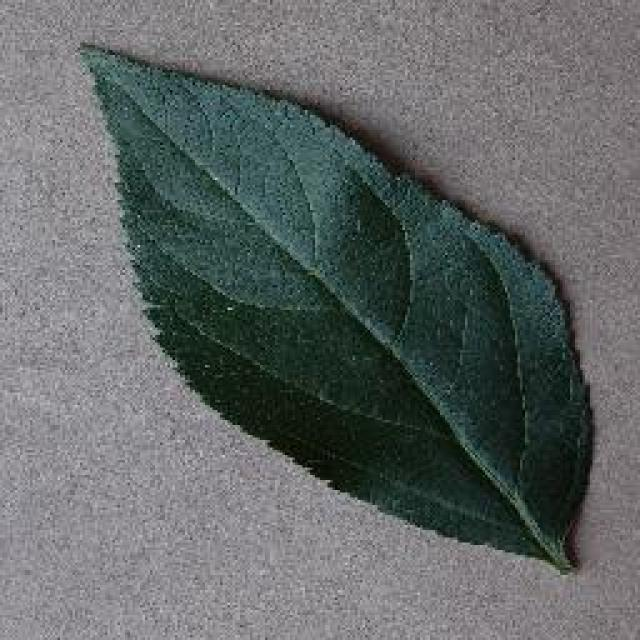apple healthy: (75, 37, 597, 575)
